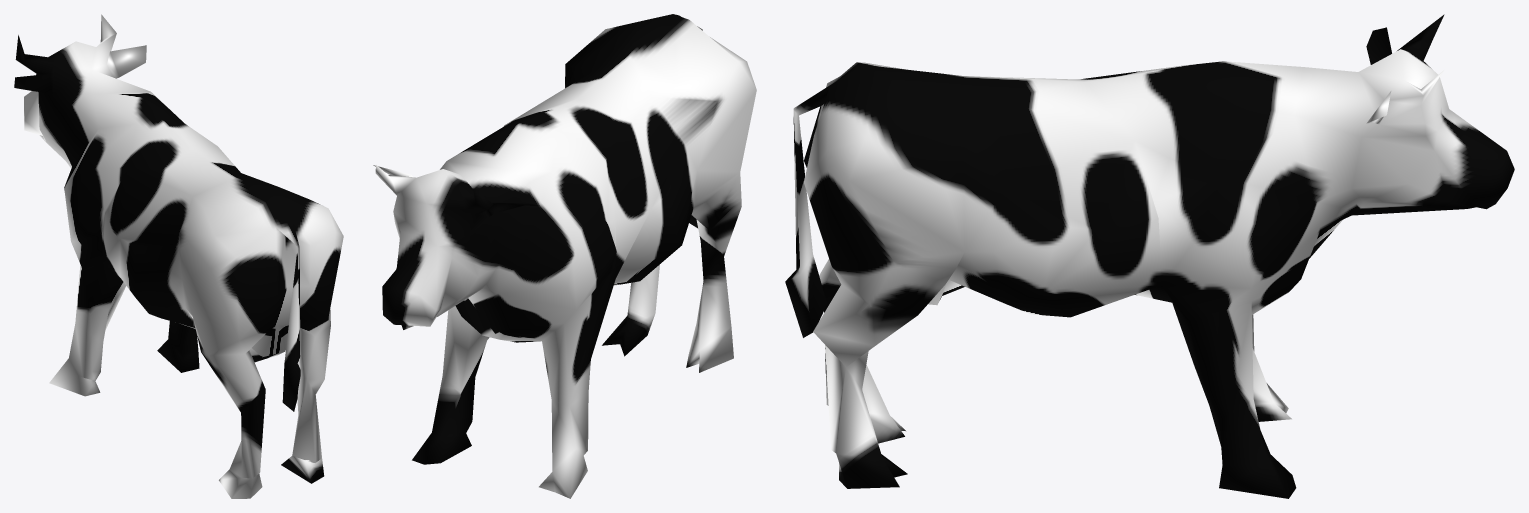
File: AnimalVaca.fbx
The picture shows the model from 3 angles, left to right: view 1: azimuth 30°, elevation 25°; view 2: azimuth 150°, elevation 25°; view 3: azimuth 270°, elevation 25°; orthographic projection. The views are drawn at different scales.
Parts seen in each view (by area): view 1: Cube; view 2: Cube; view 3: Cube.
Boxes of the visible parts, x1=… form: Cube: x1=14, y1=14, x2=343, y2=498; Cube: x1=373, y1=14, x2=756, y2=498; Cube: x1=785, y1=14, x2=1514, y2=498.
Size of the model in its own units: 3.07 by 9.84 by 6.22.
1 material, 1 textured.
